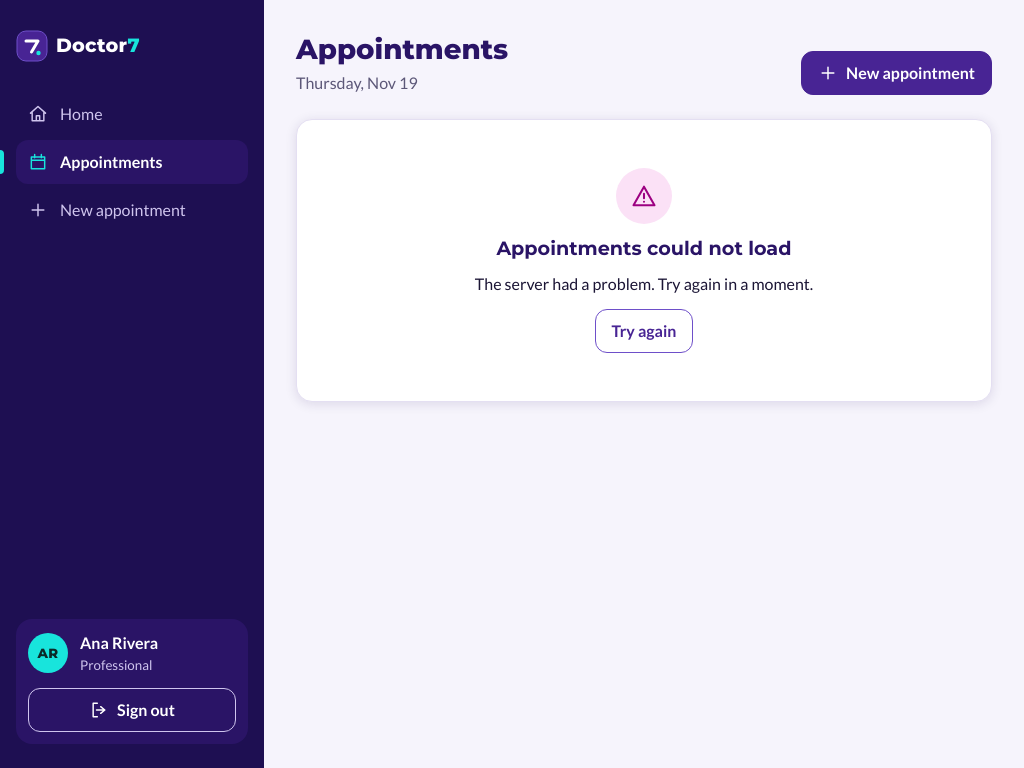
Test: Appointments list › shows an error that can be retried
Expected: the message shows "The server had a problem. Try again in a moment.", [475, 274, 813, 293]
Step 1. Click the button "Try again" → (644, 331), box [595, 309, 694, 353]
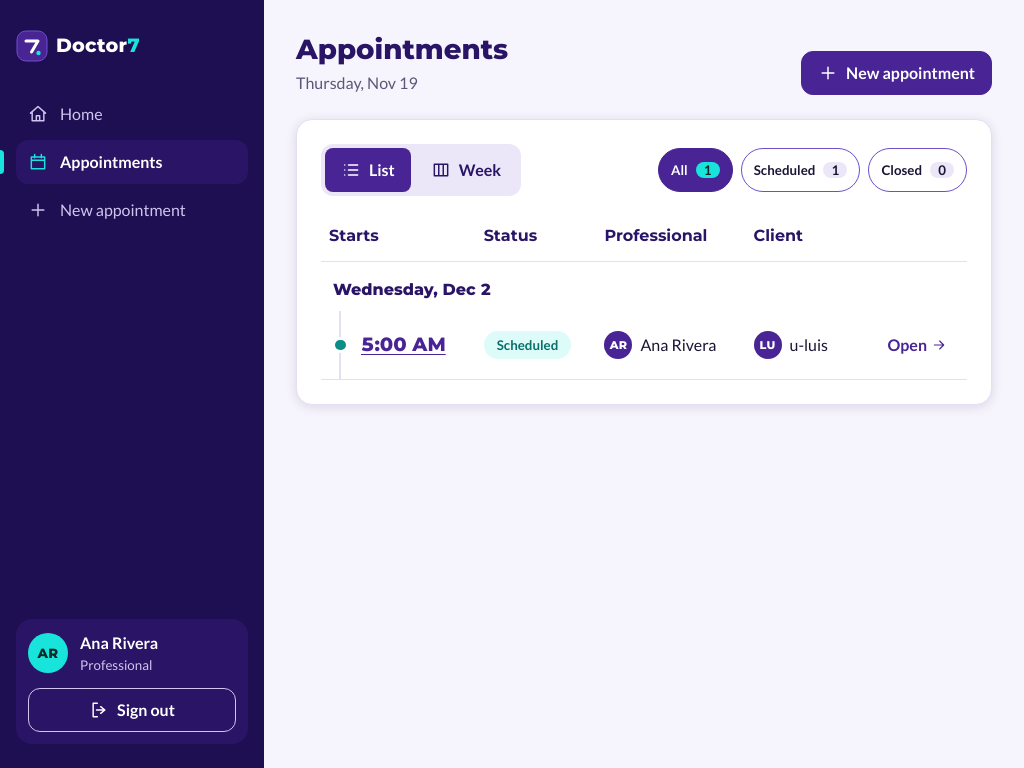
Now the link named "Dec 2, 2026" is shown, box [361, 323, 446, 367]
